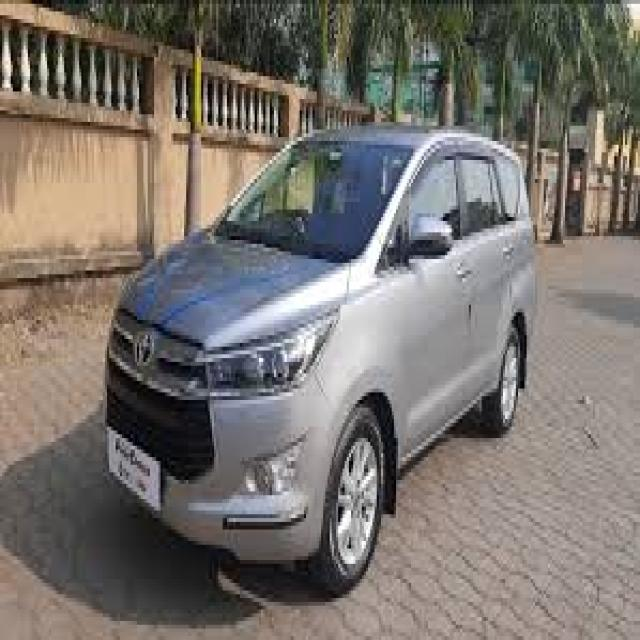light_vehicle: (104, 123, 538, 600)
